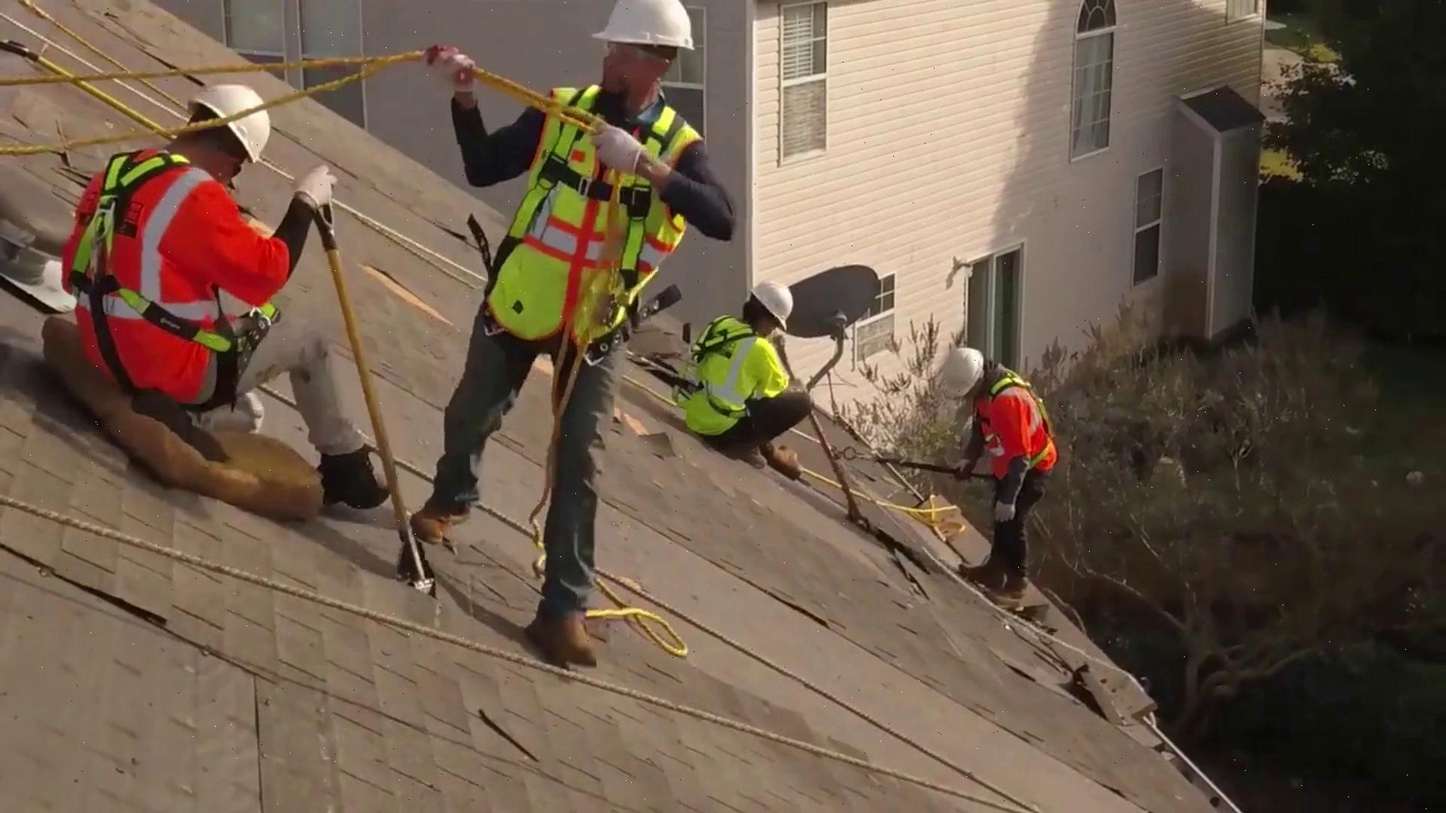Hard_hat: (197, 77, 274, 161), (589, 0, 701, 51), (745, 277, 799, 325), (926, 354, 980, 400)
Vest: (473, 101, 703, 342), (73, 154, 258, 400), (959, 377, 1061, 482)
